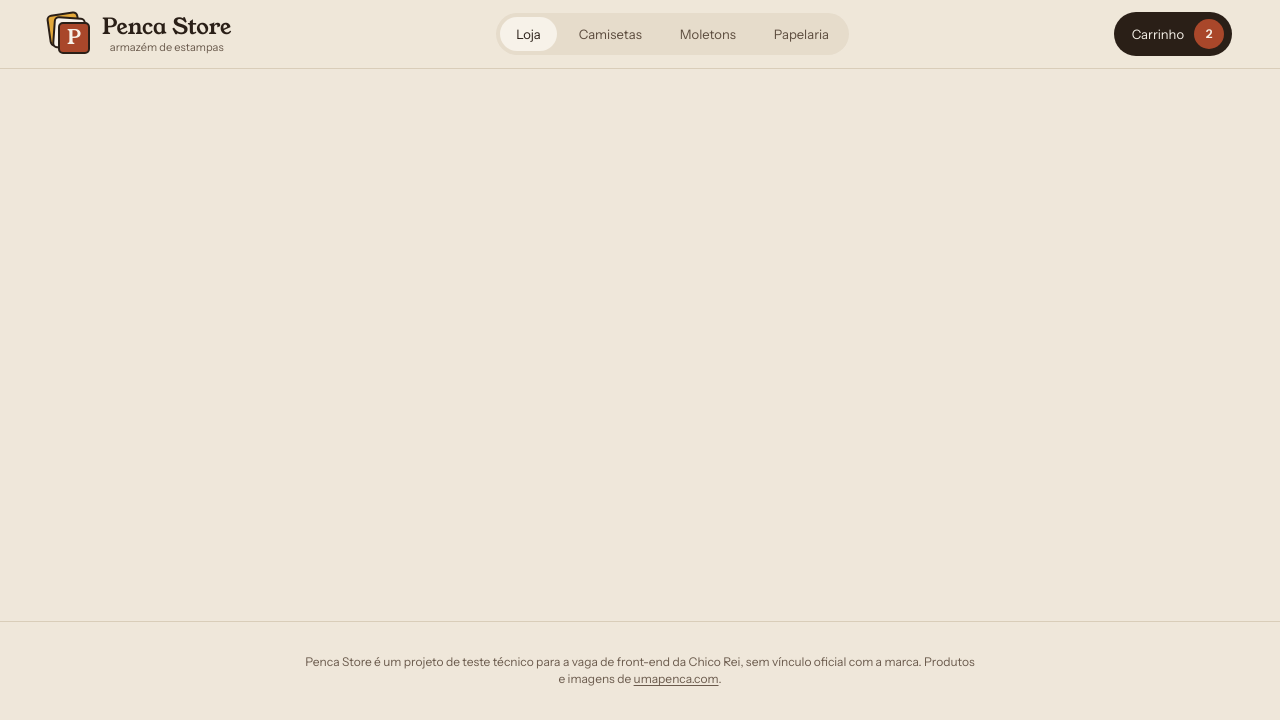
App › o botão do cabeçalho mostra a quantidade e abre o carrinho
Expected: the text with test id "cart-count" reads "2", [1206,26,1212,41]
Step 1. Click the button with test id "open-cart" → {"x": 1173, "y": 34}, box [1114,12,1232,56]
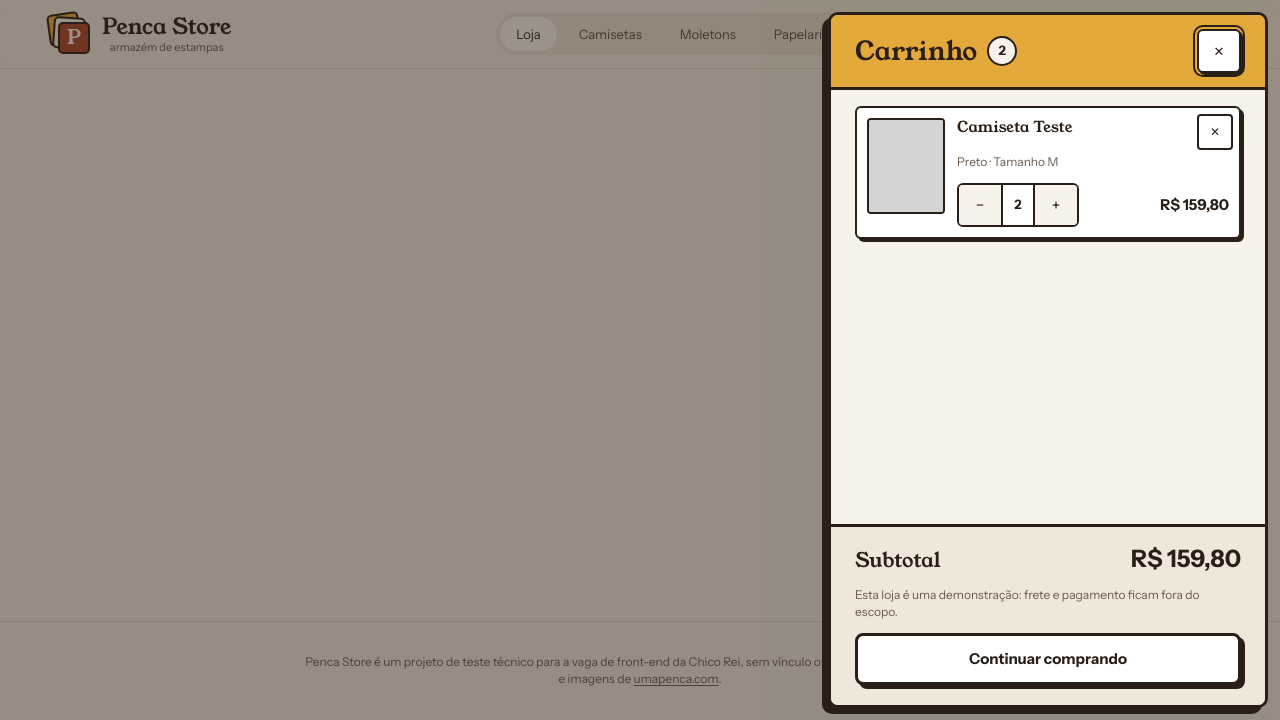
Expected: the dialog with test id "cart-drawer" is shown, [828,12,1268,708]
